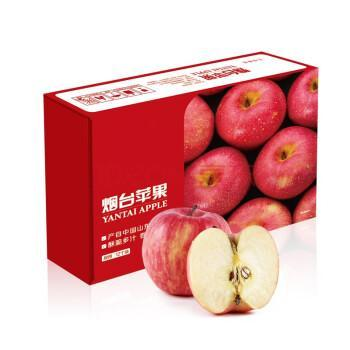apple: (185, 225, 279, 316), (140, 204, 229, 298), (214, 77, 285, 149), (251, 127, 314, 200), (181, 148, 249, 213), (285, 67, 317, 129)
